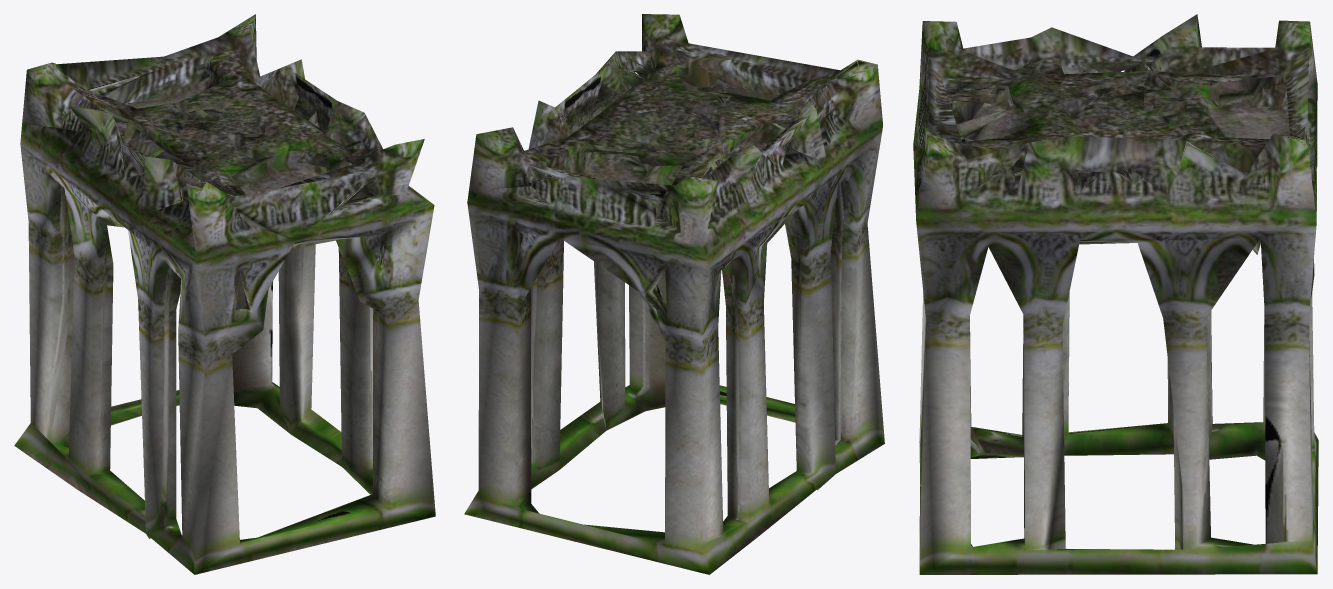
The model's file is 08d312c6ec67_renaissance_garden_.fbx.
3 renders of one model, left to right at view 1: azimuth 30°, elevation 25°; view 2: azimuth 150°, elevation 25°; view 3: azimuth 270°, elevation 25°, orthographic. The views are drawn at different scales.
Visible parts, largest first — view 1: mesh; view 2: mesh; view 3: mesh.
Boxes of the visible parts, box(x1,y1,x2,y2) form: mesh: box(14, 14, 435, 574); mesh: box(464, 14, 884, 574); mesh: box(913, 14, 1318, 574).
Size of the model in its own units: 65.34 by 99.64 by 83.31.
